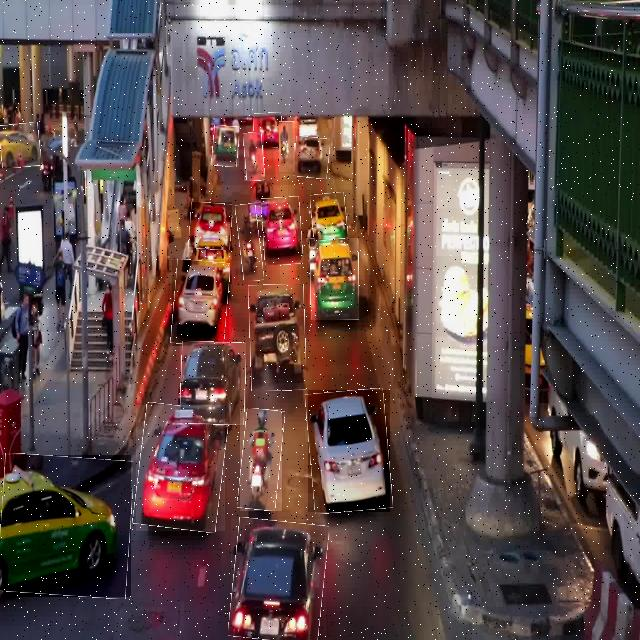Car: (0, 455, 131, 597), (231, 519, 326, 640), (136, 405, 225, 531), (308, 390, 390, 512), (180, 342, 246, 425), (172, 260, 229, 346), (311, 238, 359, 320), (262, 197, 302, 264), (189, 202, 232, 250), (311, 193, 347, 241), (294, 137, 330, 179), (212, 126, 239, 166), (253, 113, 283, 148)
Motorcycle: (240, 409, 282, 511), (238, 204, 262, 281), (244, 133, 264, 181), (280, 121, 296, 172)
Truck: (249, 285, 306, 391), (0, 123, 40, 167)
